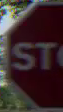Stop: (7, 23, 61, 82)
